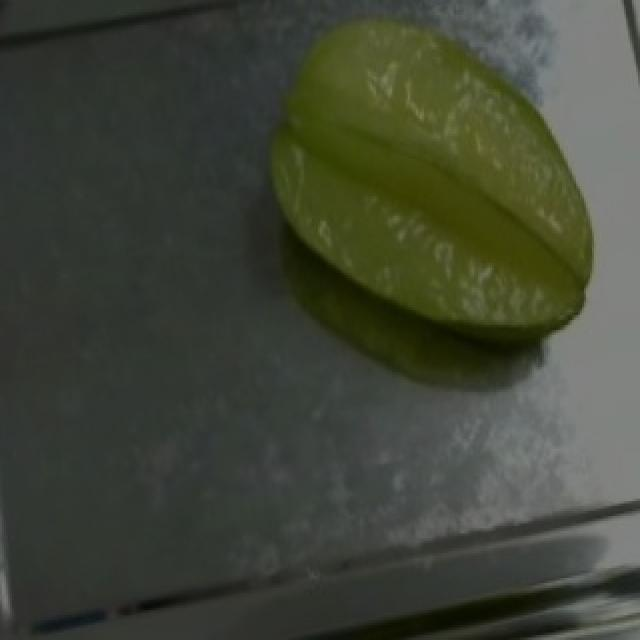fruit: (256, 0, 640, 380)
